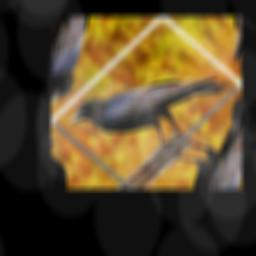Crow: (64, 26, 231, 178)
